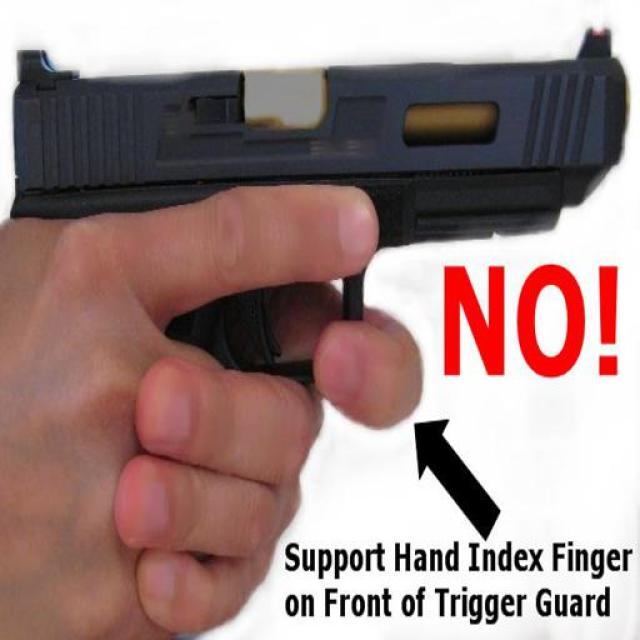pistol: (9, 22, 628, 421)
